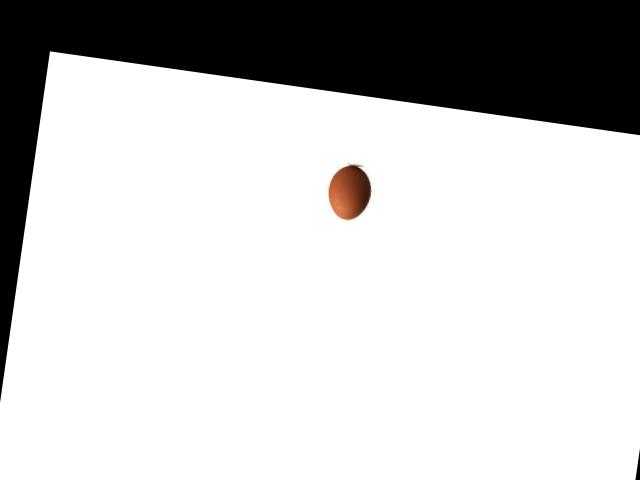egg: (326, 162, 374, 221)
